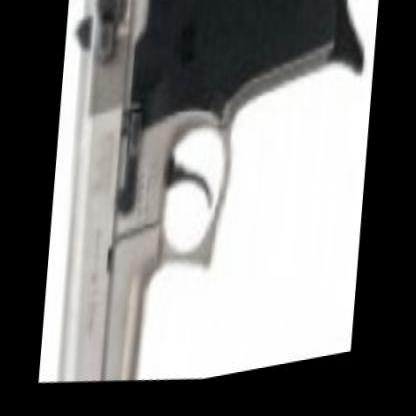pistol: (36, 0, 366, 409)
